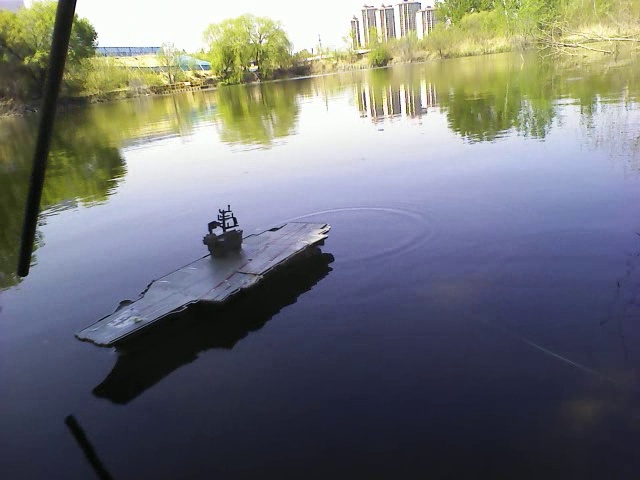aircraft_carrier: (74, 206, 334, 349)
